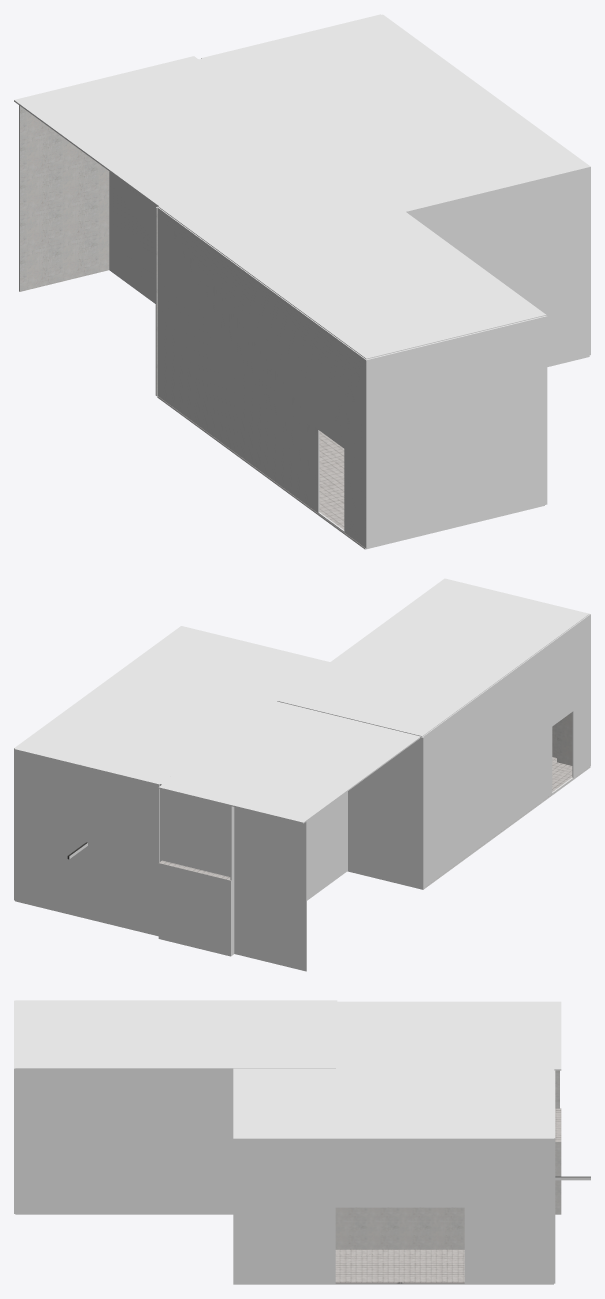
Rendered from 173_opt.fbx.
The picture shows the model from 3 angles, top to bottom: view 1: azimuth 30°, elevation 25°; view 2: azimuth 150°, elevation 25°; view 3: azimuth 270°, elevation 25°; orthographic projection. The views are drawn at different scales.
Parts seen in each view (by area): view 1: node_id135, node_id126, node_id55, node_id96, node_id132, node_id64, node_id99, node_id147, node_id144, node_id89, node_id141 (×2), node_id84 (+1 smaller); view 2: node_id135, node_id126, node_id55, node_id61, node_id96, node_id99, node_id138, node_id89, node_id147, node_id93, node_id141, node_id102; view 3: node_id84, node_id129, node_id126, node_id55, node_id96, node_id67, node_id58, node_id93, node_id89, node_id141, node_id61, node_id132.
Part boxes in pixels (x1,y1,x2,y2): node_id135: [157, 206, 365, 546]; node_id126: [158, 162, 546, 359]; node_id55: [202, 15, 588, 210]; node_id96: [14, 56, 338, 206]; node_id132: [366, 315, 547, 539]; node_id64: [409, 167, 589, 365]; node_id99: [20, 106, 109, 291]; node_id147: [360, 351, 402, 548]; node_id144: [508, 317, 544, 513]; node_id89: [109, 176, 155, 303]; node_id141 (×2): [157, 396, 544, 549]; node_id84: [382, 14, 590, 355]; node_id135: [421, 615, 589, 888]; node_id126: [277, 578, 589, 736]; node_id55: [15, 626, 326, 783]; node_id61: [14, 748, 159, 935]; node_id96: [158, 701, 420, 823]; node_id99: [161, 784, 306, 971]; node_id138: [279, 702, 423, 889]; node_id89: [158, 795, 347, 956]; node_id147: [557, 712, 572, 765]; node_id93: [160, 661, 329, 861]; node_id141: [424, 757, 589, 887]; node_id102: [230, 791, 347, 880]; node_id84: [233, 1138, 553, 1283]; node_id129: [15, 1069, 233, 1213]; node_id126: [15, 1000, 335, 1069]; node_id55: [233, 1070, 553, 1138]; node_id96: [337, 1001, 561, 1070]; node_id67: [335, 1207, 464, 1249]; node_id58: [335, 1249, 464, 1282]; node_id93: [233, 1068, 553, 1070]; node_id89: [555, 1142, 561, 1214]; node_id141: [15, 1213, 233, 1214]; node_id61: [554, 1070, 555, 1283]; node_id132: [14, 1001, 15, 1213].
Bounding box in the file's own units: 0.512 × 0.2535 × 0.9015.
116 materials, 34 textured.
